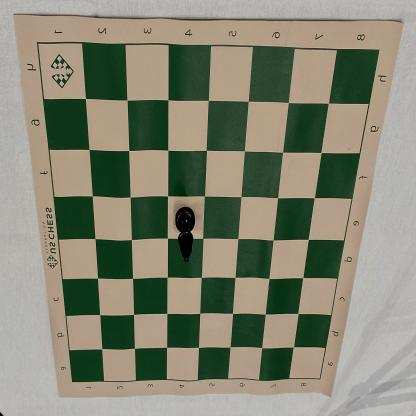black-bishop: (174, 206, 196, 263)
